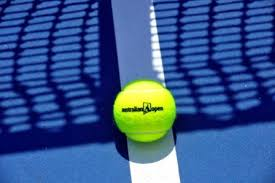tennis_ball: (112, 79, 177, 145)
